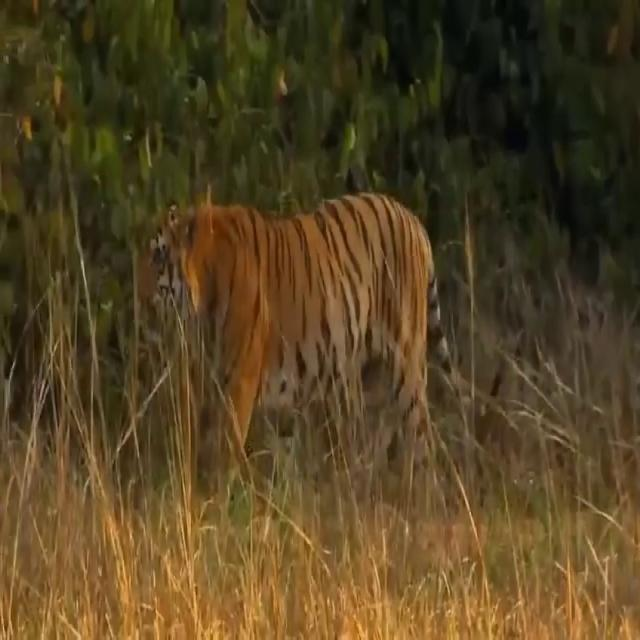tiger: (138, 189, 501, 504)
